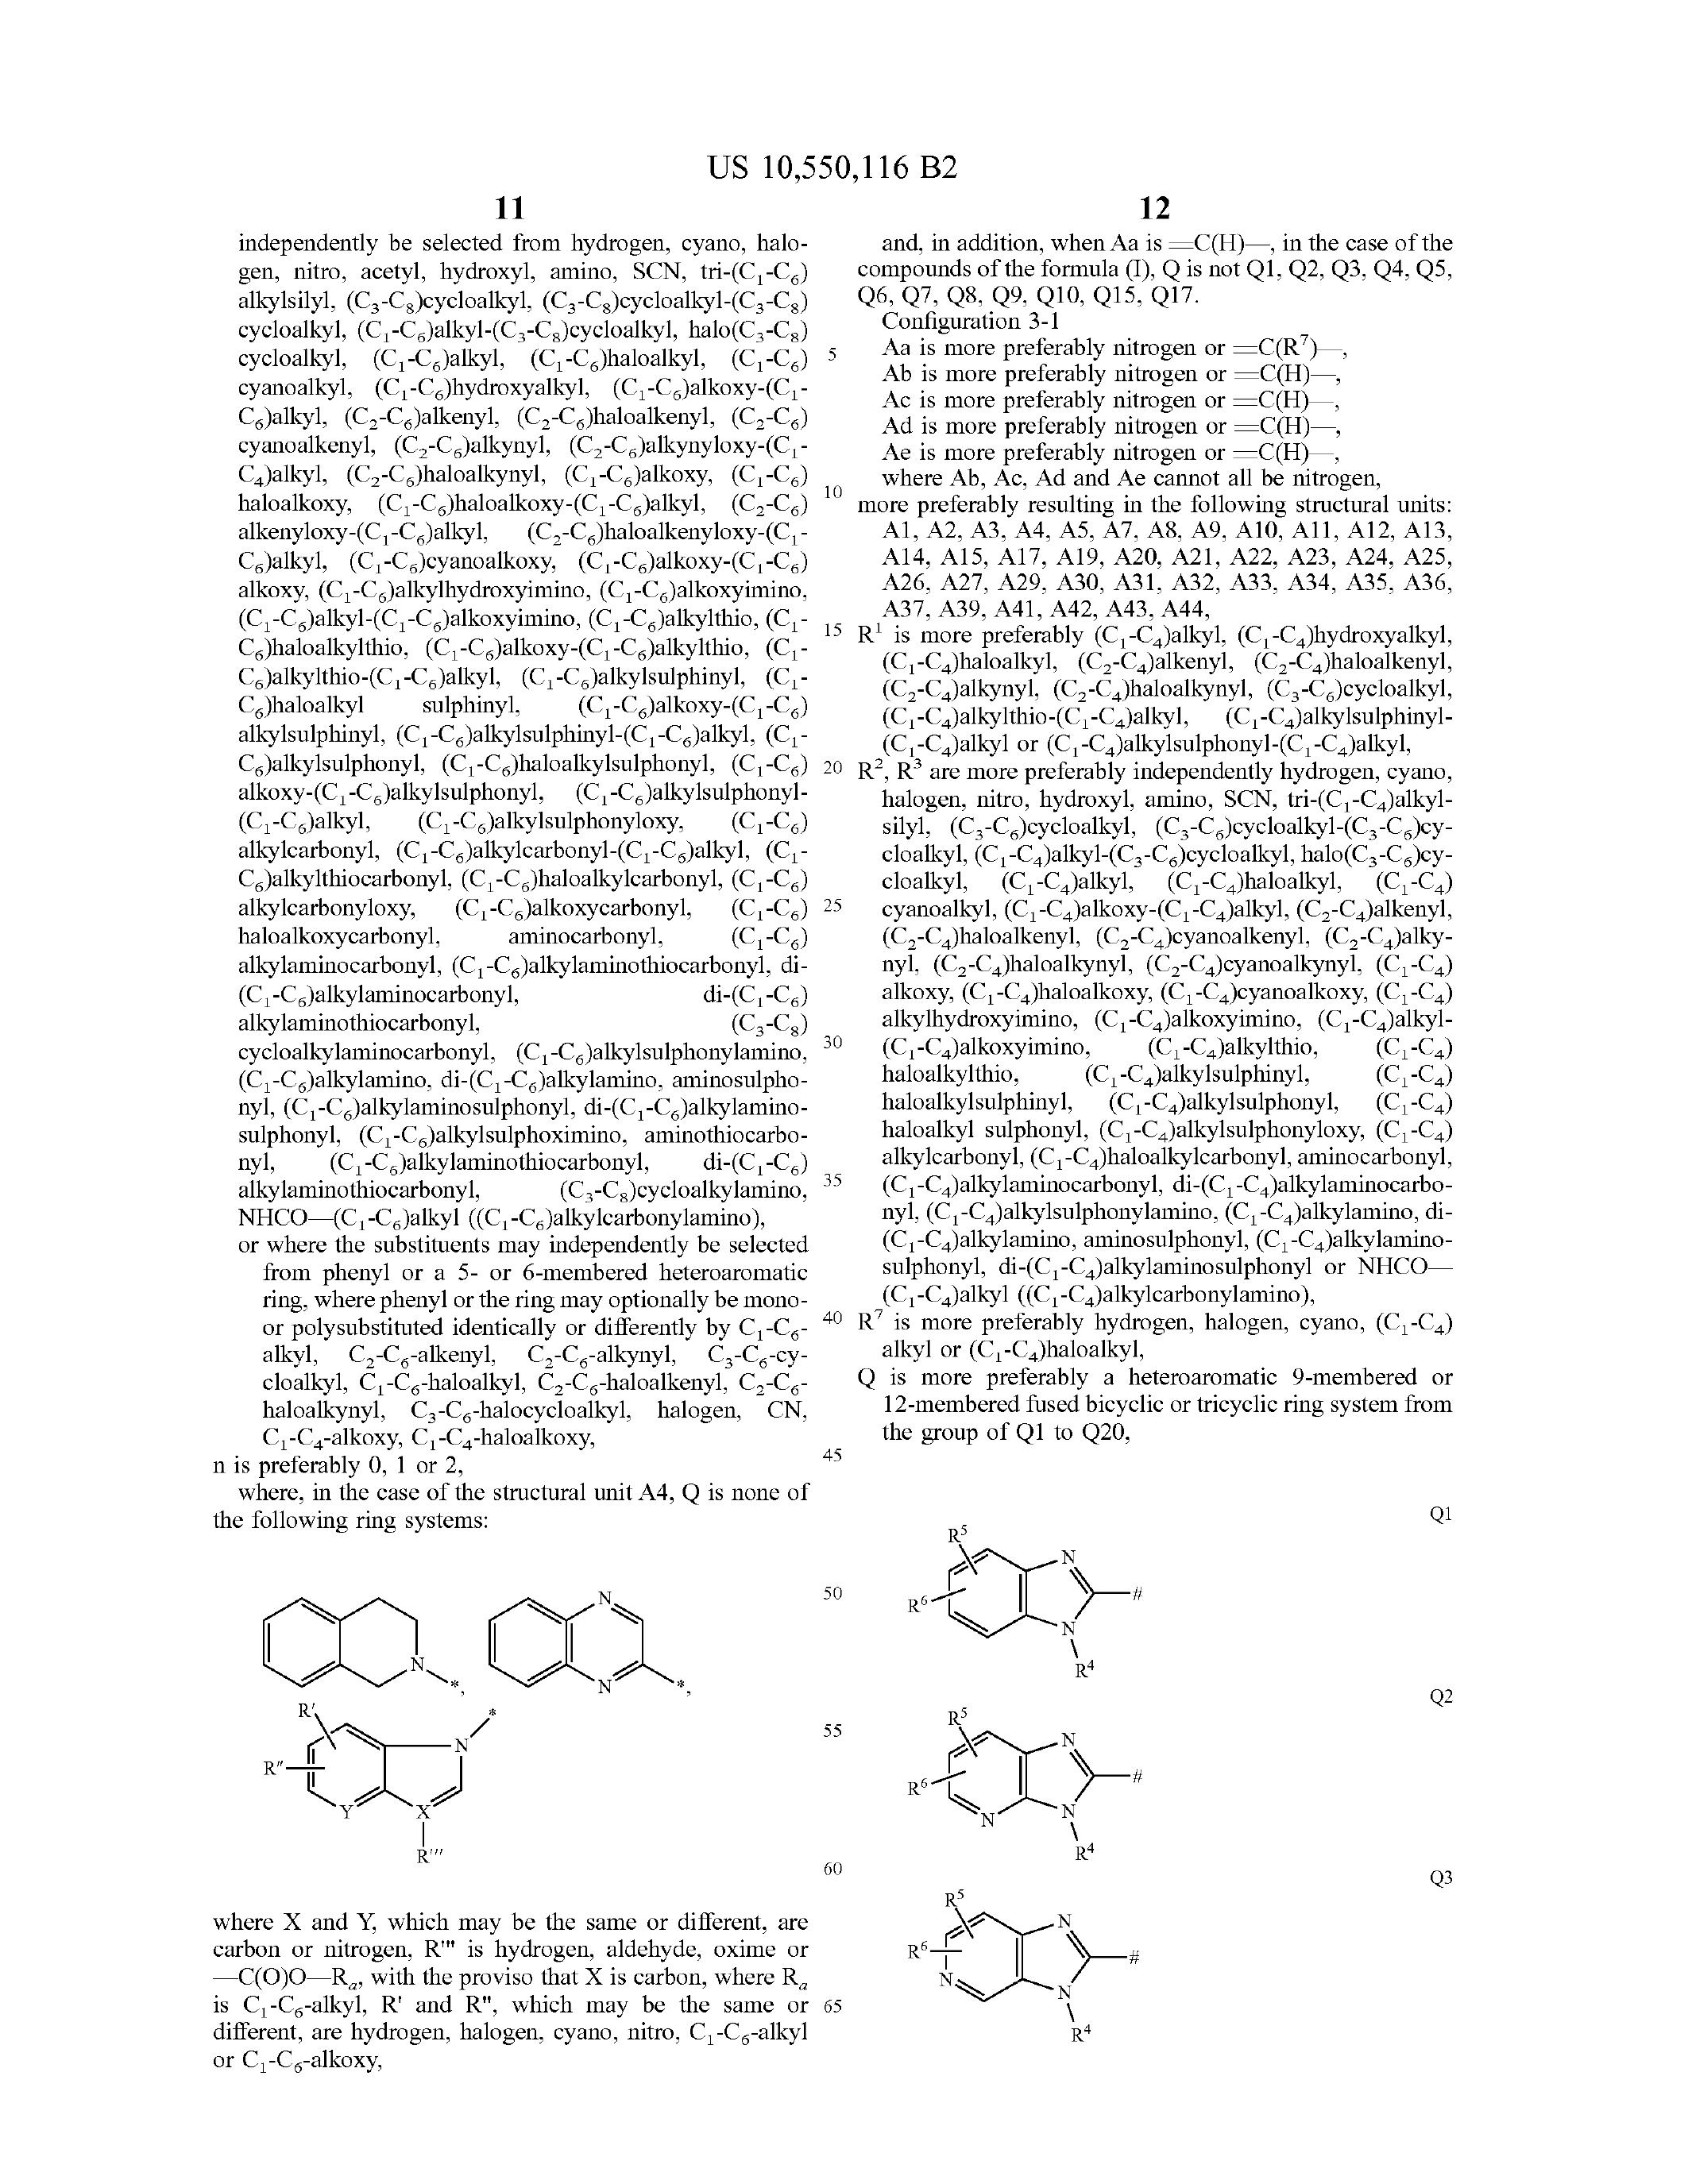substitutes: (856, 1868, 1236, 2049)
